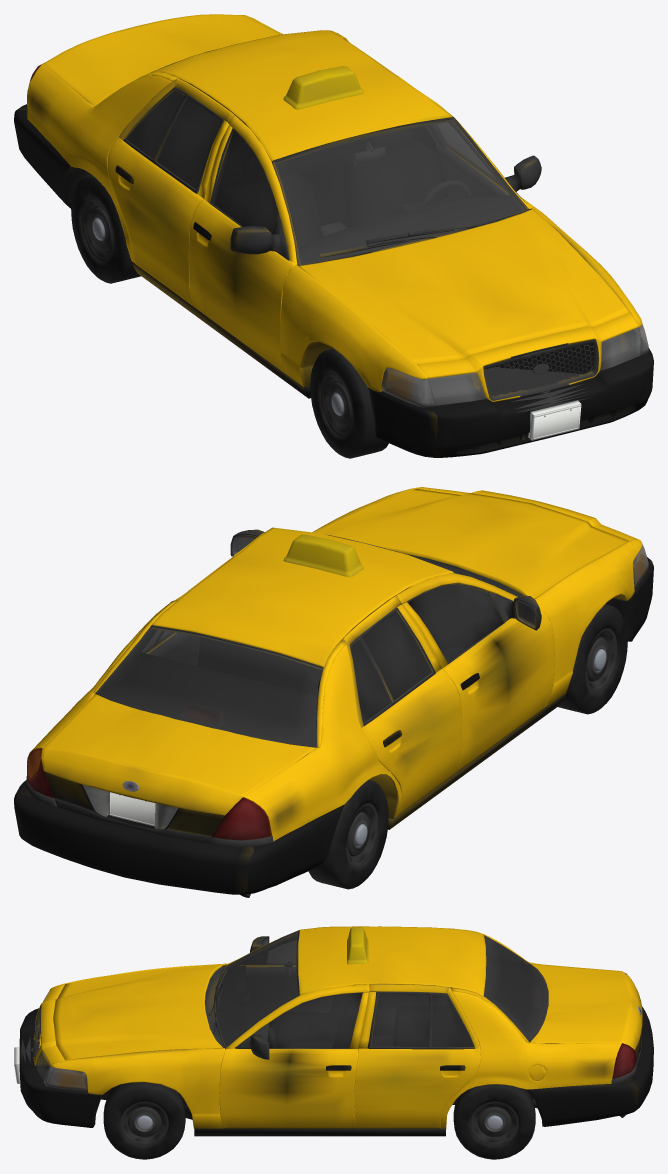
3 renders of one model, top to bottom at view 1: azimuth 30°, elevation 25°; view 2: azimuth 150°, elevation 25°; view 3: azimuth 270°, elevation 25°, orthographic. The views are drawn at different scales.
Visible parts, largest first — view 1: body, glass, interior, wheel_FL, wheel_RL; view 2: body, glass, interior, wheel_RL, wheel_FL; view 3: body, glass, interior, wheel_FR, wheel_RR.
Part boxes in pixels (x1=…): body: x1=14, y1=14, x2=653, y2=457; glass: x1=27, y1=50, x2=648, y2=407; interior: x1=82, y1=91, x2=524, y2=397; wheel_FL: x1=310, y1=348, x2=388, y2=458; wheel_RL: x1=71, y1=174, x2=140, y2=283; body: x1=14, y1=487, x2=653, y2=894; glass: x1=27, y1=544, x2=648, y2=840; interior: x1=35, y1=585, x2=502, y2=897; wheel_RL: x1=308, y1=780, x2=388, y2=889; wheel_FL: x1=558, y1=604, x2=627, y2=714; body: x1=14, y1=926, x2=653, y2=1136; glass: x1=35, y1=932, x2=635, y2=1091; interior: x1=101, y1=933, x2=634, y2=1119; wheel_FR: x1=103, y1=1082, x2=185, y2=1159; wheel_RR: x1=453, y1=1084, x2=535, y2=1159.
Size of the model in its own units: 2.18 by 1.66 by 5.39.
